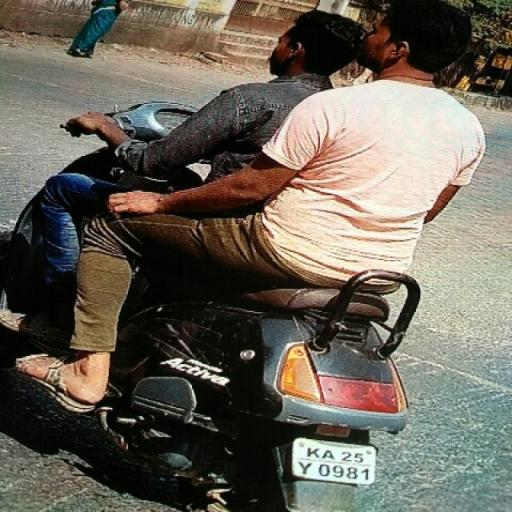bike: (3, 0, 490, 512)
numberplate: (292, 436, 378, 486)
withouthelmet: (363, 2, 472, 76), (268, 3, 362, 80)
